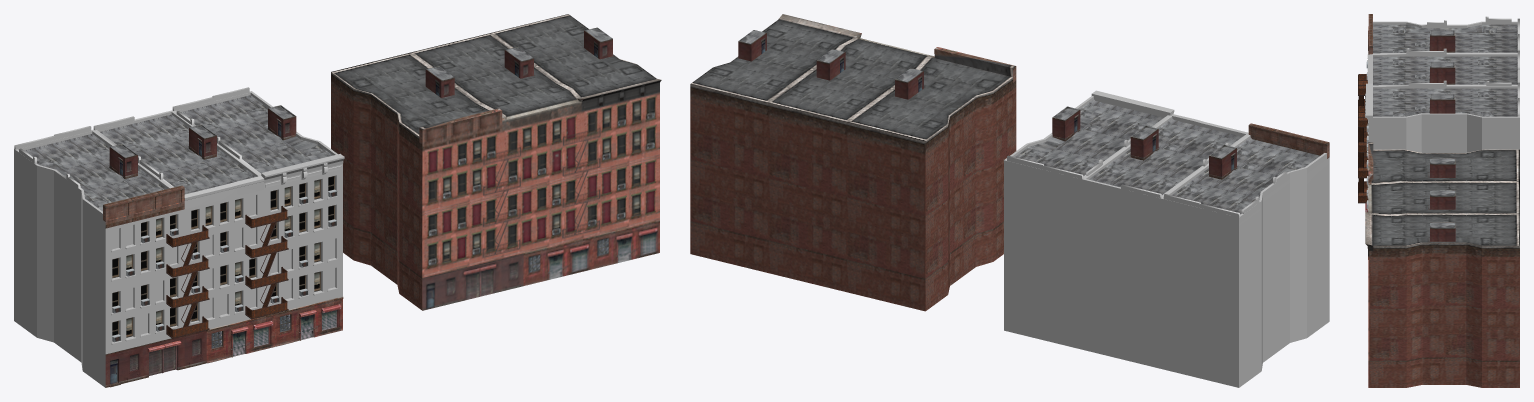
Rendered from building.fbx.
3 views of the same model, side by side, from view 1: azimuth 30°, elevation 25°; view 2: azimuth 150°, elevation 25°; view 3: azimuth 270°, elevation 25° (orthographic). The views are drawn at different scales.
Visible parts, largest first — view 1: LOD_UBM_Tanner_Building_01, FACADE_UBM_Tanner_Building_01, ROOF_UBM_Tanner_Building_01, WALLS_UBM_Tanner_Building_01, Windows_UBM_Tanner_Building_01, Firestairs_UBM_Tanner_Building_01, FIRST_FLOOR_MESH_1_UBM_Tanner_Building_01, FIRST_FLOOR_MESH_2_UBM_Tanner_Building_01, TRIM_MESH_1_UBM_Tanner_Building_01, ROOFEXIT_UBM_Tanner_Building_01, TRIM_MESH_2_UBM_Tanner_Building_01, FIRST_FLOOR_MESH_3_UBM_Tanner_Building_01 (+1 smaller); view 2: LOD_UBM_Tanner_Building_01, WALLS_UBM_Tanner_Building_01, ROOF_UBM_Tanner_Building_01, ROOFEXIT_UBM_Tanner_Building_01, TRIM_MESH_1_UBM_Tanner_Building_01, TRIM_MESH_2_UBM_Tanner_Building_01; view 3: LOD_UBM_Tanner_Building_01, ROOF_UBM_Tanner_Building_01, WALLS_UBM_Tanner_Building_01, ROOFEXIT_UBM_Tanner_Building_01, Firestairs_UBM_Tanner_Building_01, TRIM_MESH_1_UBM_Tanner_Building_01, TRIM_MESH_2_UBM_Tanner_Building_01, Aircons_UBM_Tanner_Building_01.
Part boxes in pixels (x1,y1,x2,y2): LOD_UBM_Tanner_Building_01: (331, 14, 661, 310); FACADE_UBM_Tanner_Building_01: (105, 170, 342, 354); ROOF_UBM_Tanner_Building_01: (14, 87, 337, 219); WALLS_UBM_Tanner_Building_01: (14, 155, 105, 387); Windows_UBM_Tanner_Building_01: (112, 176, 334, 337); Firestairs_UBM_Tanner_Building_01: (166, 206, 288, 338); FIRST_FLOOR_MESH_1_UBM_Tanner_Building_01: (105, 330, 206, 387); FIRST_FLOOR_MESH_2_UBM_Tanner_Building_01: (147, 303, 316, 363); TRIM_MESH_1_UBM_Tanner_Building_01: (184, 153, 344, 208); ROOFEXIT_UBM_Tanner_Building_01: (109, 105, 296, 178); TRIM_MESH_2_UBM_Tanner_Building_01: (103, 185, 184, 228); FIRST_FLOOR_MESH_3_UBM_Tanner_Building_01: (246, 296, 343, 353); LOD_UBM_Tanner_Building_01: (690, 14, 1016, 311); WALLS_UBM_Tanner_Building_01: (1004, 157, 1329, 387); ROOF_UBM_Tanner_Building_01: (1004, 96, 1326, 223); ROOFEXIT_UBM_Tanner_Building_01: (1052, 106, 1237, 179); TRIM_MESH_1_UBM_Tanner_Building_01: (1091, 90, 1248, 136); TRIM_MESH_2_UBM_Tanner_Building_01: (1248, 123, 1329, 158); LOD_UBM_Tanner_Building_01: (1365, 142, 1519, 387); ROOF_UBM_Tanner_Building_01: (1373, 16, 1519, 122); WALLS_UBM_Tanner_Building_01: (1368, 119, 1519, 152); ROOFEXIT_UBM_Tanner_Building_01: (1429, 30, 1455, 113); Firestairs_UBM_Tanner_Building_01: (1358, 74, 1368, 203); TRIM_MESH_1_UBM_Tanner_Building_01: (1365, 54, 1372, 125); TRIM_MESH_2_UBM_Tanner_Building_01: (1368, 14, 1372, 54); Aircons_UBM_Tanner_Building_01: (1366, 61, 1368, 208).
Size of the model in its own units: 70011 by 22823 by 21382.
